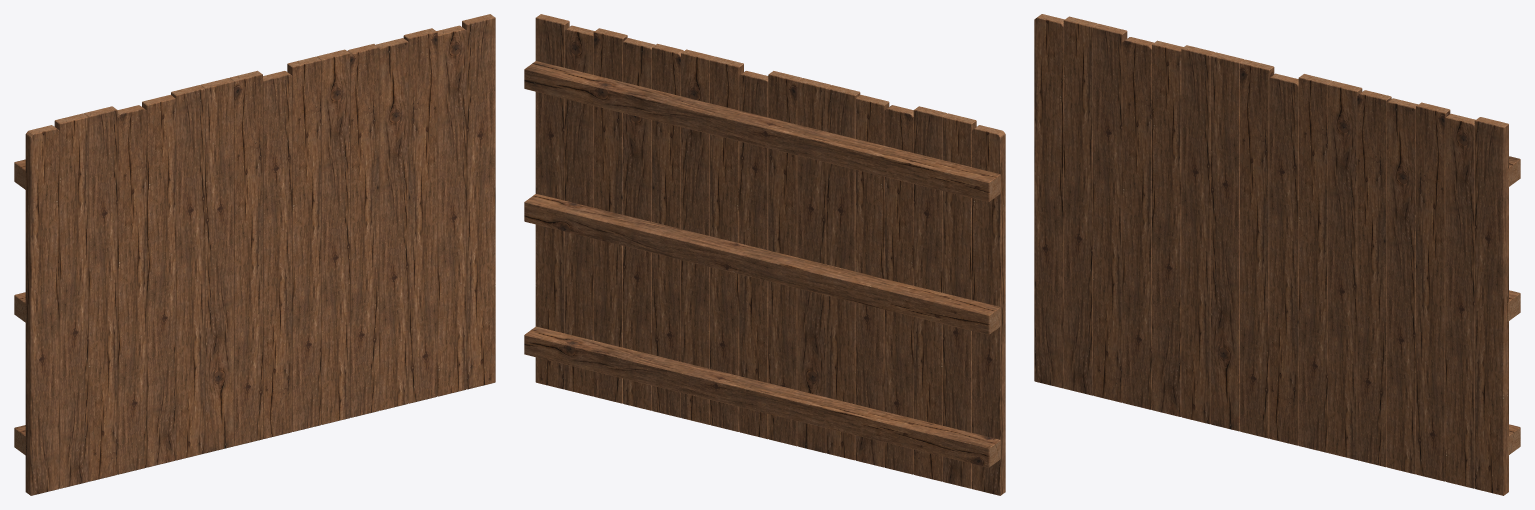
The model's file is SplitPlankWall_4.00Wx3.00Hx0.25D.fbx.
The picture shows the model from 3 angles, left to right: view 1: azimuth 30°, elevation 25°; view 2: azimuth 150°, elevation 25°; view 3: azimuth 330°, elevation 25°; orthographic projection.
Visible parts, largest first — view 1: Modular_SplitPlankWall_Export; view 2: Modular_SplitPlankWall_Export; view 3: Modular_SplitPlankWall_Export.
Part boxes in pixels (x1=…): Modular_SplitPlankWall_Export: x1=14, y1=14, x2=495, y2=495; Modular_SplitPlankWall_Export: x1=524, y1=14, x2=1005, y2=495; Modular_SplitPlankWall_Export: x1=1034, y1=14, x2=1520, y2=495.
Bounding box in the file's own units: 4 × 3 × 0.25.
